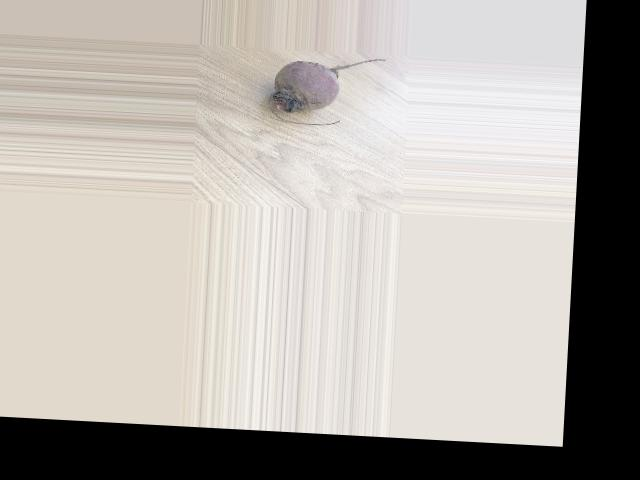beet: (269, 52, 386, 128)
